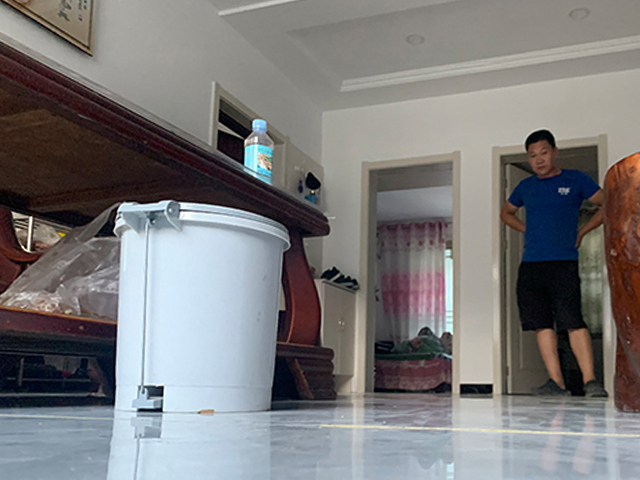bed: (373, 341, 452, 394)
cabinet: (313, 278, 357, 394)
curtain: (376, 219, 447, 340)
table: (1, 34, 338, 400)
trashcan: (111, 200, 292, 416)
